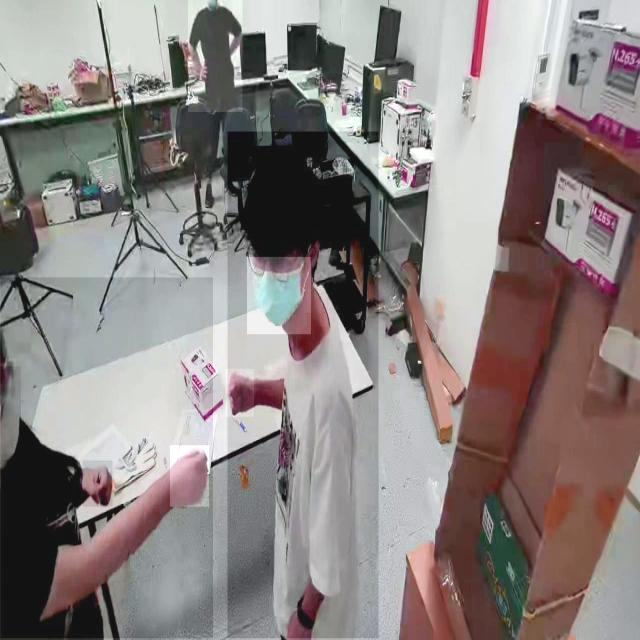face_mask: (247, 257, 311, 334), (0, 366, 21, 462)
glasses: (244, 245, 292, 287)
hand_noglove: (170, 446, 210, 508), (83, 460, 113, 508), (226, 369, 254, 418), (284, 607, 318, 639), (198, 64, 208, 82)
head_nohelmet: (241, 146, 323, 231)
person: (0, 277, 214, 639), (227, 132, 379, 639), (188, 0, 243, 113)
shoes: (203, 180, 218, 208)
